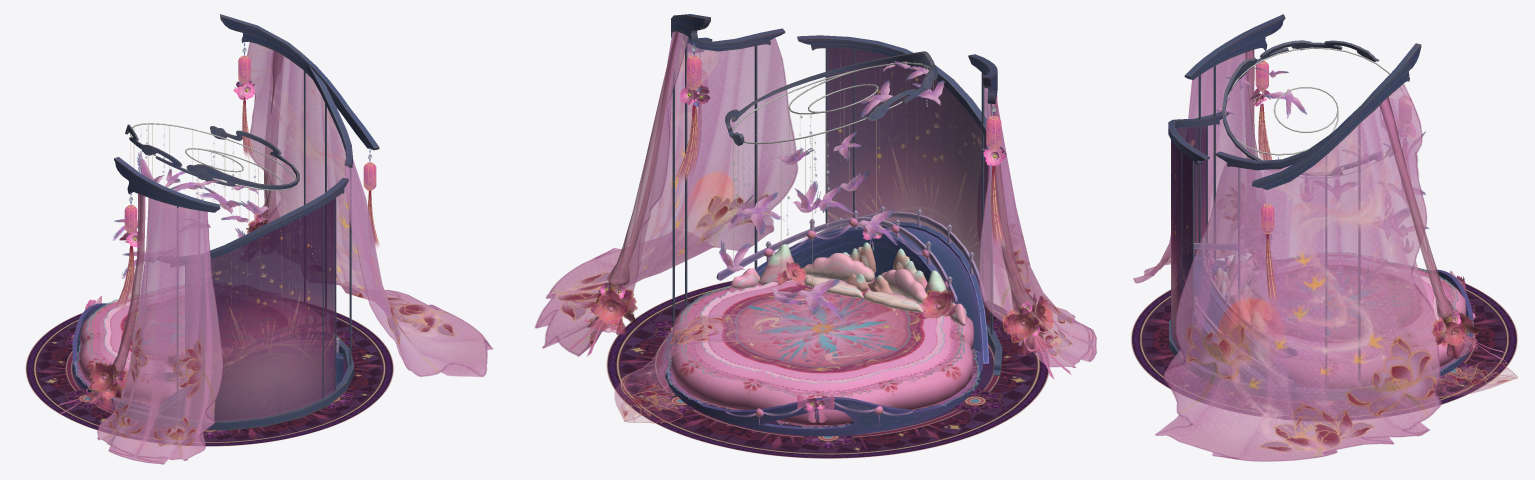
The model's file is furniture-21278.glb.
3 renders of one model, left to right at view 1: azimuth 30°, elevation 25°; view 2: azimuth 150°, elevation 25°; view 3: azimuth 270°, elevation 25°, orthographic. The views are drawn at different scales.
Bounding box in the file's own units: 6.6 × 4.61 × 5.02.
4 materials, 4 textured.
